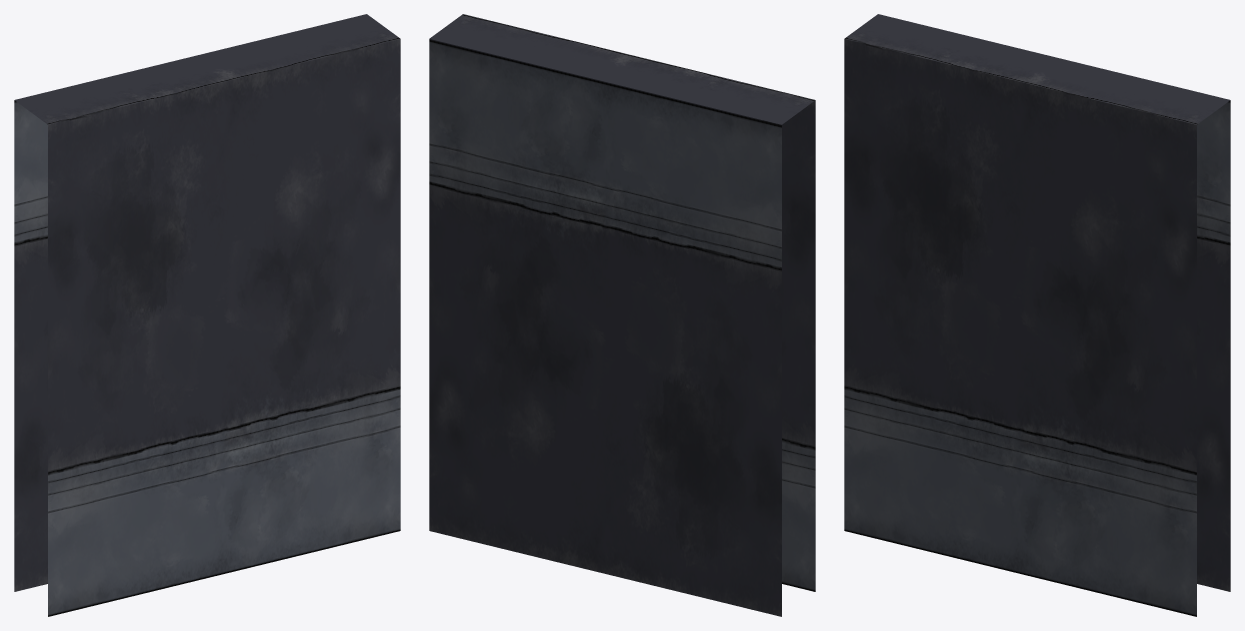
The model's file is motherRoom_wall_inner.fbx.
3 renders of one model, left to right at view 1: azimuth 30°, elevation 25°; view 2: azimuth 150°, elevation 25°; view 3: azimuth 330°, elevation 25°, orthographic.
Visible parts, largest first — view 1: motherRoom_wall_inner; view 2: motherRoom_wall_inner; view 3: motherRoom_wall_inner.
Boxes of the visible parts, bbox=[...] form: motherRoom_wall_inner: bbox=[14, 14, 400, 616]; motherRoom_wall_inner: bbox=[429, 14, 815, 616]; motherRoom_wall_inner: bbox=[844, 14, 1230, 616].
Bounding box in the file's own units: 300 × 400 × 50.
